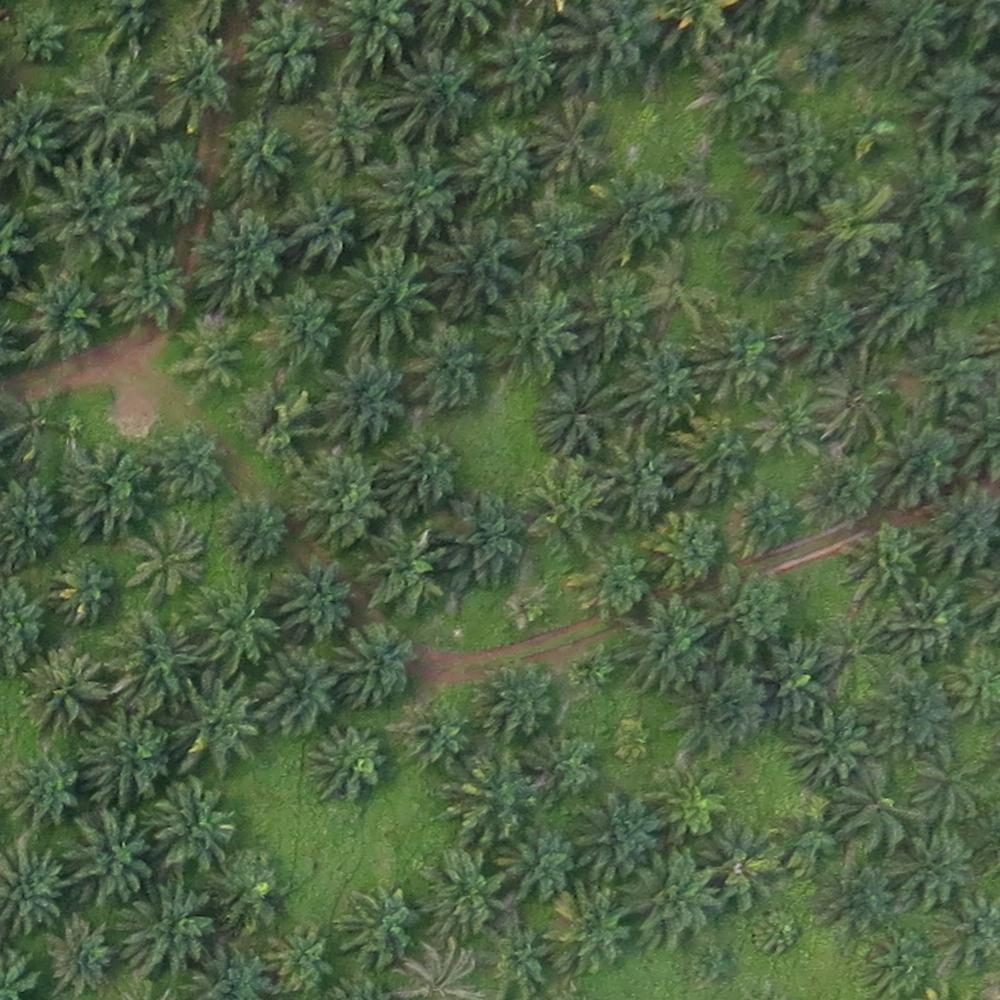Palm: (332, 248, 435, 347), (357, 146, 460, 244), (36, 164, 140, 261), (55, 57, 157, 155), (286, 451, 386, 549), (433, 496, 529, 592), (192, 211, 286, 307), (551, 2, 652, 91), (628, 849, 715, 949), (117, 878, 210, 971), (355, 527, 449, 619), (429, 221, 522, 313), (382, 54, 477, 144), (166, 681, 253, 778), (690, 44, 784, 133), (237, 6, 327, 98), (704, 566, 794, 658), (58, 445, 151, 534), (107, 616, 196, 709), (15, 272, 101, 367), (317, 361, 407, 450), (589, 167, 672, 263), (65, 813, 155, 901), (248, 286, 340, 372), (485, 289, 571, 381), (452, 124, 537, 217), (78, 714, 164, 805), (419, 848, 505, 938), (684, 666, 768, 758), (574, 793, 661, 881), (187, 584, 271, 675), (445, 755, 531, 843), (121, 516, 206, 605), (145, 785, 237, 867), (535, 370, 620, 458), (333, 884, 421, 969), (695, 823, 783, 908), (524, 460, 615, 542), (279, 186, 363, 273), (620, 606, 708, 689), (530, 96, 611, 186), (513, 199, 603, 280), (645, 761, 735, 842), (156, 33, 231, 129), (550, 884, 634, 969), (99, 245, 186, 327), (21, 648, 104, 733), (566, 272, 651, 355), (328, 624, 414, 706), (266, 561, 350, 643), (478, 24, 555, 113), (253, 648, 333, 733), (470, 661, 551, 743), (169, 319, 253, 397), (699, 315, 774, 402), (619, 349, 700, 429), (496, 824, 579, 902), (406, 332, 485, 413), (870, 668, 949, 749), (877, 583, 960, 660), (847, 523, 923, 607), (642, 510, 721, 590), (829, 768, 908, 847), (379, 441, 458, 519), (574, 544, 651, 624), (669, 417, 746, 497), (132, 143, 207, 225), (298, 95, 377, 172), (216, 119, 292, 199), (747, 383, 828, 458), (769, 638, 845, 716), (41, 917, 116, 996), (600, 443, 677, 519), (478, 917, 552, 996), (306, 727, 384, 801), (216, 855, 289, 934), (148, 431, 225, 505), (895, 833, 969, 910), (5, 751, 80, 825), (792, 706, 864, 782), (911, 748, 984, 821), (391, 695, 465, 767), (49, 556, 117, 634), (800, 455, 873, 527), (262, 922, 334, 991), (523, 732, 595, 799), (728, 490, 796, 560), (216, 497, 289, 562)
